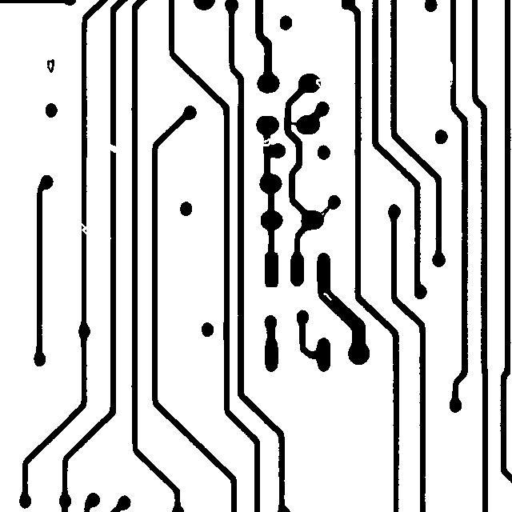copper: (39, 51, 62, 80)
mousebite: (438, 52, 460, 100), (308, 71, 329, 94)
open: (98, 134, 125, 160), (253, 130, 279, 154), (72, 215, 95, 242)
pin-hole: (315, 285, 339, 308)
short: (312, 197, 340, 227), (279, 114, 309, 133)
